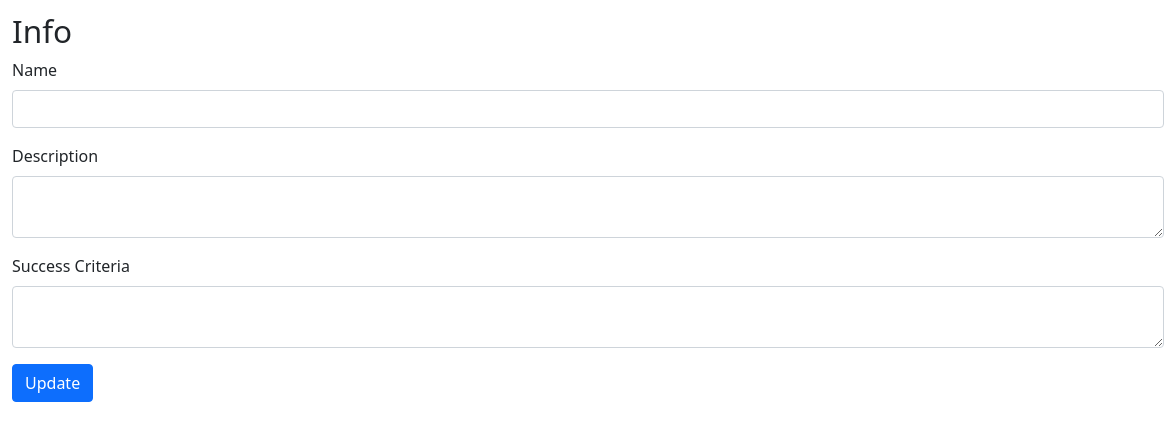
Test: The problem / bet new form component › can validate the form
Click the button "Update": (53, 383) x1=12 y1=364 x2=93 y2=402
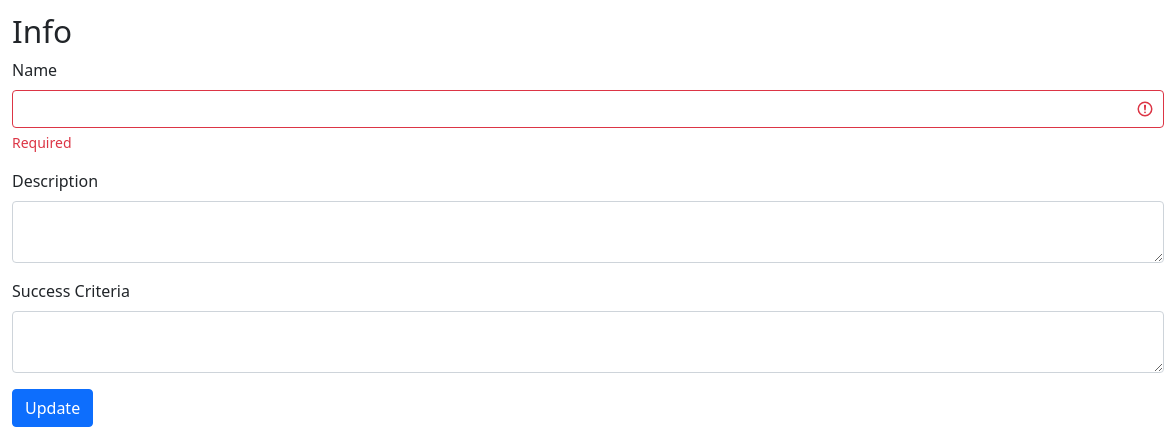
expect the text "Required" is shown: met, box x1=12 y1=133 x2=72 y2=152
